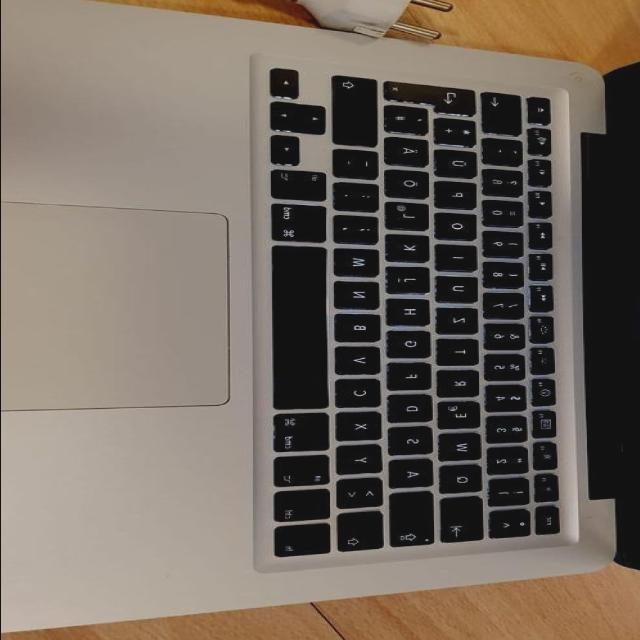0: (487, 202, 528, 230)
1: (493, 481, 535, 510)
2: (491, 449, 533, 478)
3: (490, 418, 532, 446)
4: (490, 386, 531, 414)
5: (489, 357, 530, 383)
6: (489, 325, 531, 353)
7: (488, 295, 530, 321)
8: (487, 264, 528, 292)
9: (487, 233, 528, 261)
a: (393, 461, 438, 491)
accent: (486, 141, 528, 169)
ae: (388, 139, 434, 169)
alt-left: (275, 457, 334, 489)
altgr-right: (274, 172, 332, 204)
b: (341, 316, 386, 346)
c: (340, 381, 386, 411)
caret: (494, 513, 535, 541)
comma: (338, 218, 384, 248)
d: (392, 397, 438, 426)
del: (485, 95, 527, 139)
e: (441, 403, 486, 432)
enter: (388, 83, 483, 120)
f: (392, 365, 437, 393)
g: (392, 333, 436, 361)
h: (391, 301, 436, 329)
hash: (390, 108, 435, 138)
i: (440, 247, 484, 275)
j: (391, 270, 436, 296)
k: (391, 236, 436, 265)
keyboard: (254, 59, 580, 574)
l: (390, 205, 436, 234)
less: (341, 481, 389, 512)
m: (338, 250, 386, 280)
minus: (338, 152, 384, 182)
n: (340, 282, 386, 312)
o: (438, 216, 482, 244)
oe: (390, 172, 435, 202)
p: (438, 184, 482, 213)
plus: (438, 121, 482, 150)
point: (340, 184, 385, 215)
q: (442, 467, 487, 497)
r: (441, 372, 485, 400)
s: (392, 429, 437, 458)
shift-left: (341, 515, 390, 555)
shift-lock: (394, 495, 440, 550)
shift-right: (335, 79, 383, 150)
space: (275, 248, 333, 412)
ss: (487, 172, 528, 200)
strg-left: (275, 491, 334, 525)
t: (441, 341, 485, 369)
tab: (444, 500, 489, 546)
u: (440, 278, 484, 306)
ue: (438, 152, 483, 181)
v: (340, 348, 386, 378)
w: (442, 435, 487, 464)
x: (341, 414, 387, 444)
y: (341, 448, 387, 478)
z: (440, 309, 484, 337)
